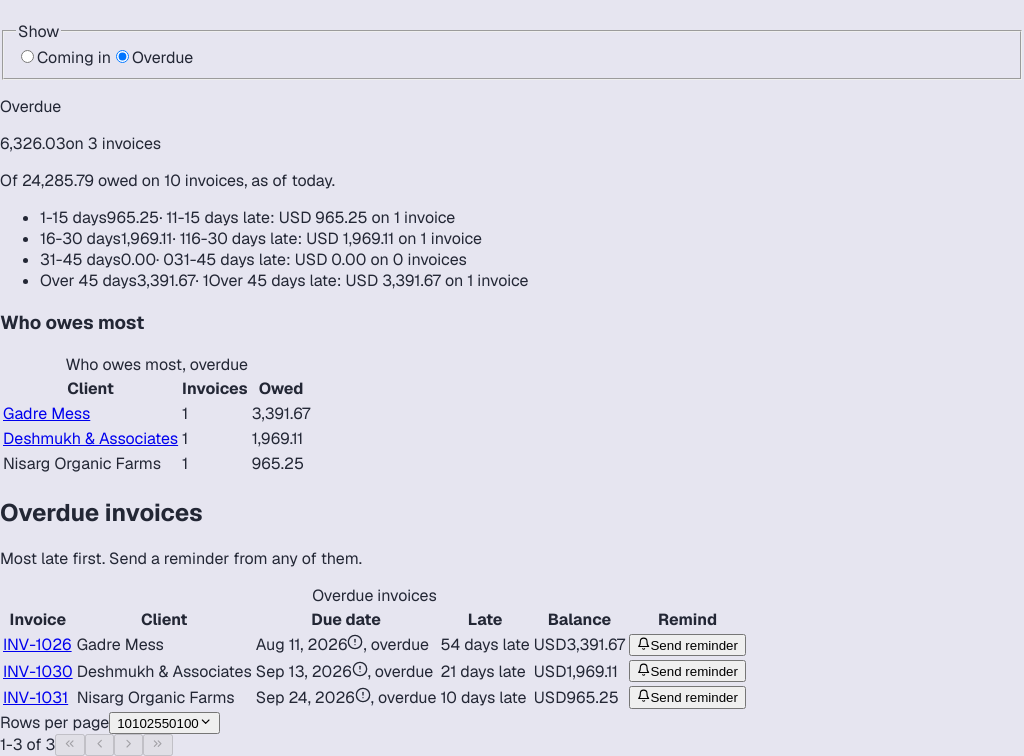
it: shows reminder failure reason
(page scrolled)
Check: the table that starts with "Gadre Mess" is shown, box [2, 402, 312, 475]
Click the button with aria-label "Send a reminder for INV-1026": (688, 645) [629, 634, 746, 656]
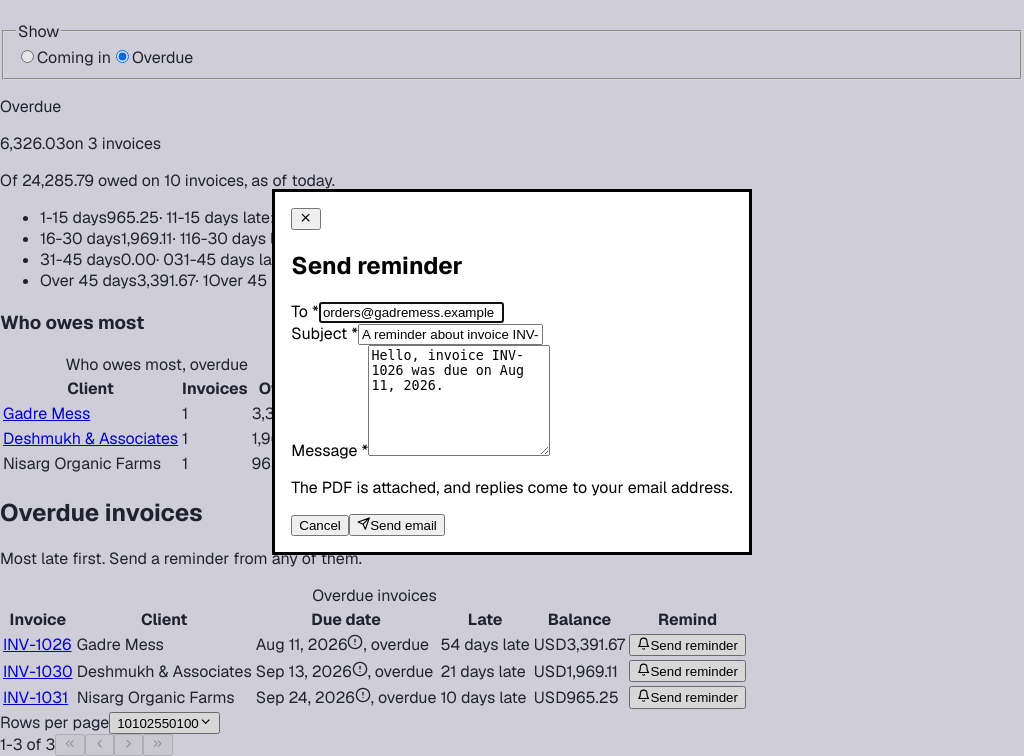
Check: the form is shown, box [291, 301, 733, 536]
Check: the heading "Send reminder" is shown, box [291, 250, 463, 281]
Check: the field labelled "To *" holds "orders@gadremess.example", box [319, 302, 504, 323]
